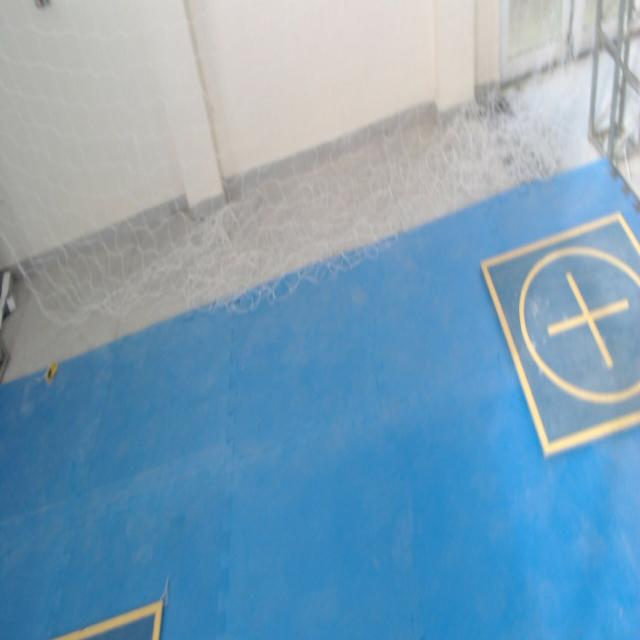base_pouso: (479, 213, 640, 457), (48, 601, 162, 639)
